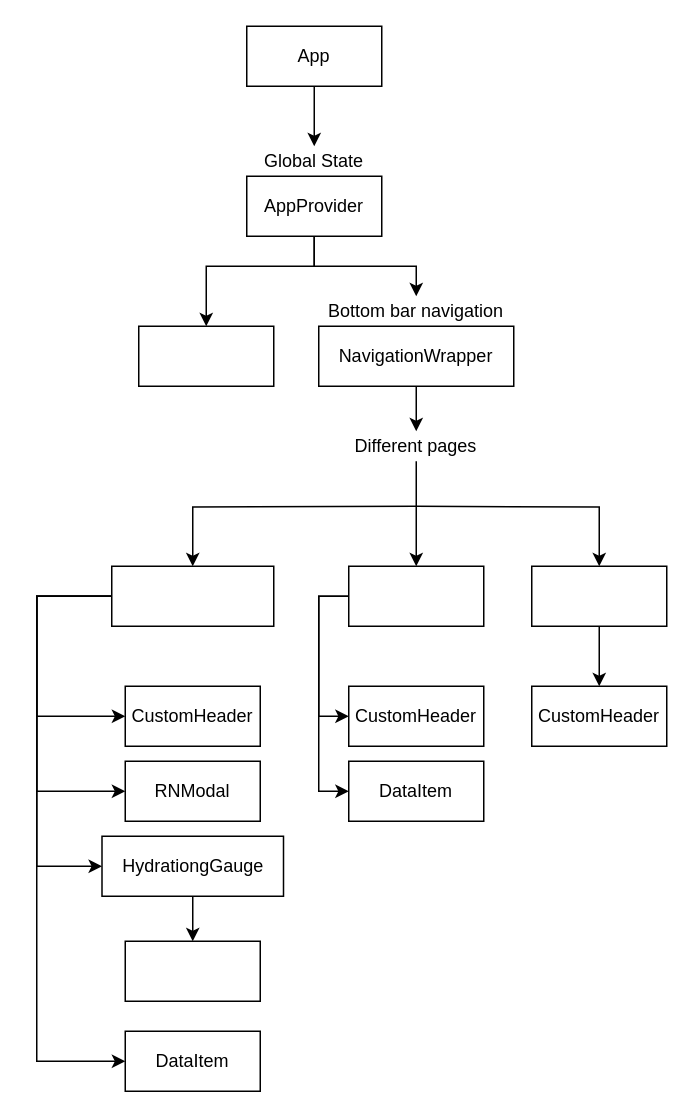
The diagram is 693 pixels wide and 1118 high, and some of its shapes have lost their labels. The shapes that lost their labels are listed below. From the top down, each one's centre as x and y in pixels, then its label:
the point at 205,355: Toast
the point at 192,595: HydrationScreen
the point at 415,595: LogScreen
the point at 598,595: SettingScreen
the point at 192,970: Donut
